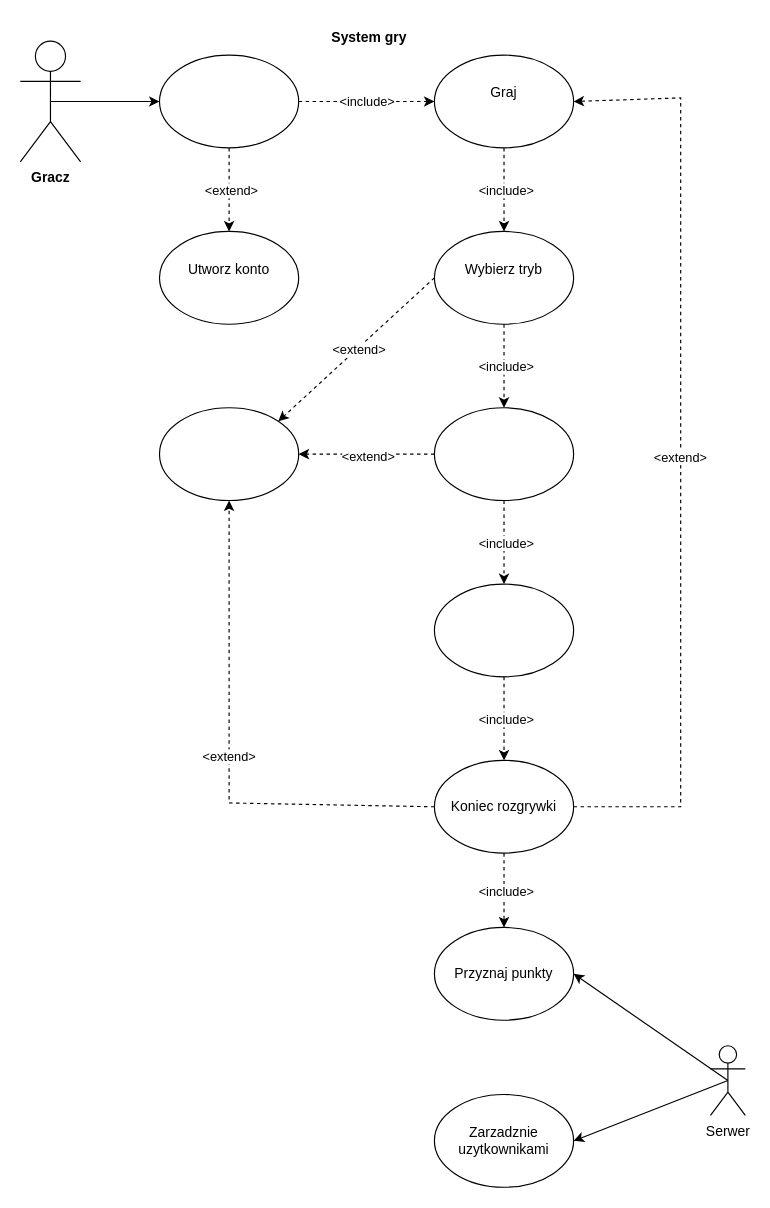
This 770x1208 diagram has some shape labels left out. The shapes that lost their labels are listed below. From the top down, each one's centre as x and y in pixels, then its label:
(228,101): Logowanie
(228,454): Opusc gre
(503,454): Wybierz postac
(503,630): Wejdz do gry
